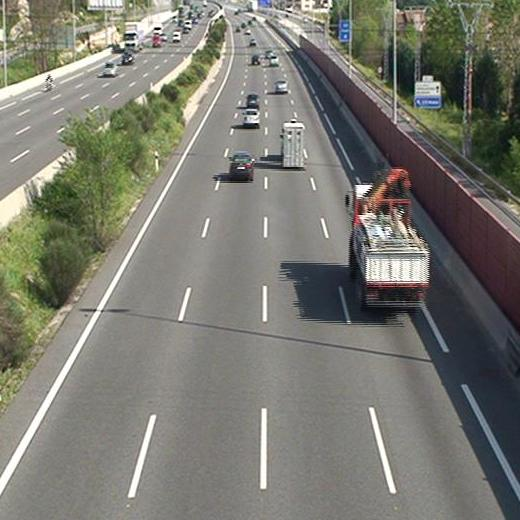car: (230, 152, 255, 179), (243, 109, 260, 125), (247, 93, 260, 108), (276, 81, 287, 93), (267, 56, 279, 66), (250, 56, 261, 65)
small-truck: (350, 184, 429, 310), (280, 123, 306, 168)
